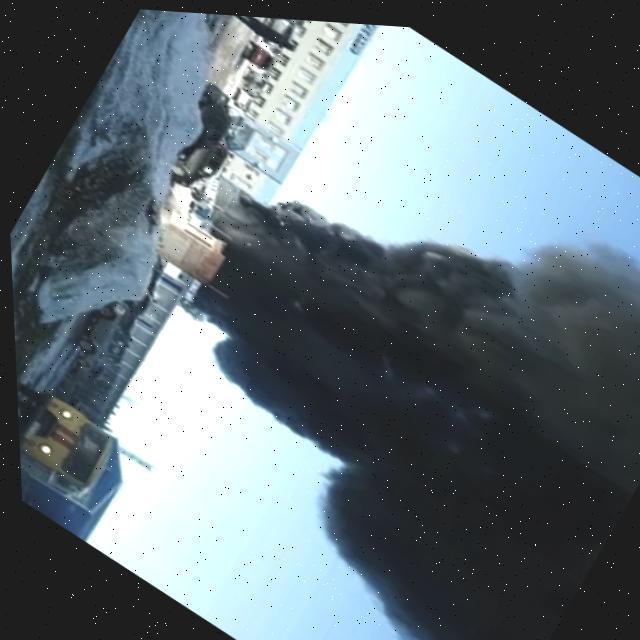Smoke: (34, 2, 640, 640)
